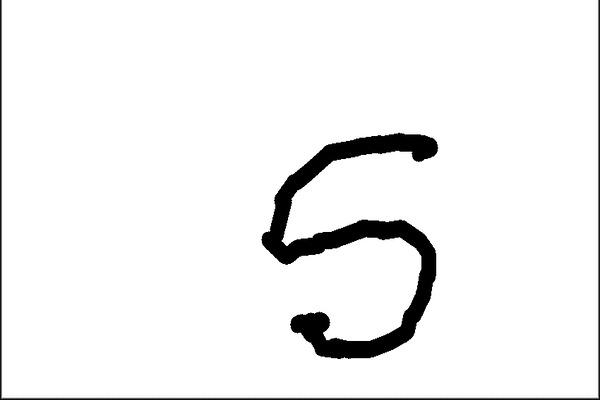S: (256, 127, 447, 372)
